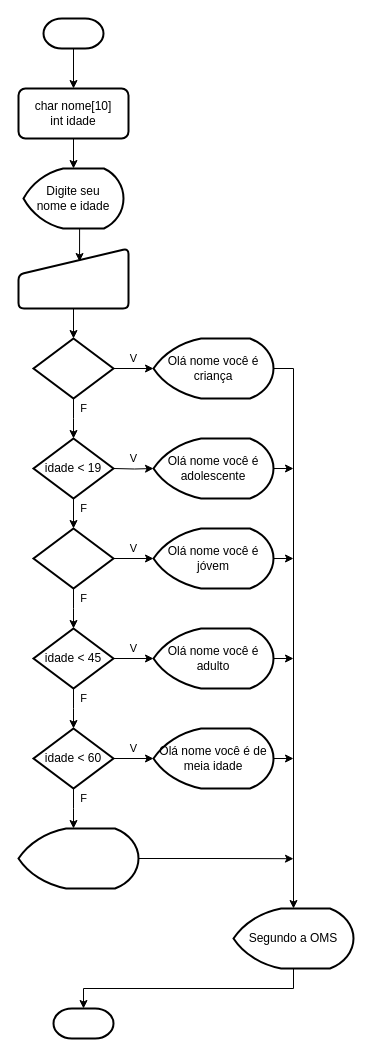
Some shapes in this 371 by 1056 pixel diagram are drawn without their labels. The shapes that lost their labels are listed below. From the top down, each one's box as (x1, y1, x2, y2) in pixels, then its label:
(42, 17, 104, 49): Início
(17, 247, 129, 309): nome, idade
(32, 337, 114, 399): idade < 10
(32, 527, 114, 589): idade < 24
(17, 827, 139, 889): Olá nome você é idoso
(52, 1007, 114, 1039): Fim
